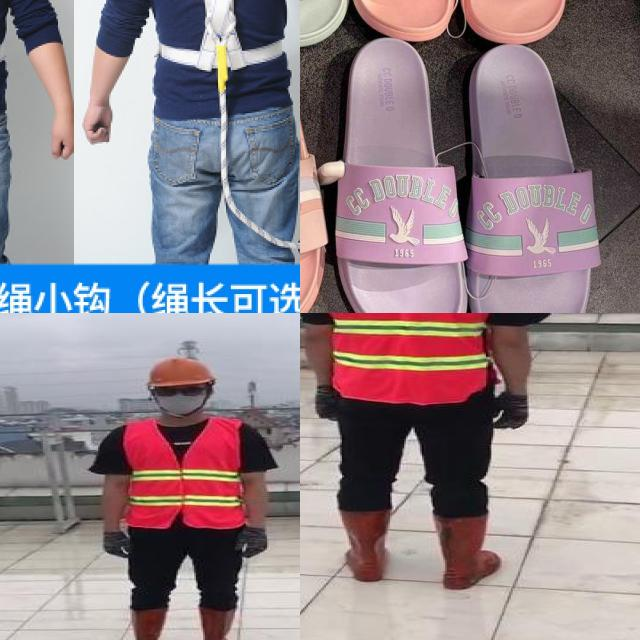Harness: (141, 0, 298, 158)
Sandals: (325, 30, 612, 313), (351, 0, 599, 75)
boots: (429, 513, 507, 593), (336, 510, 392, 583), (117, 607, 172, 640), (194, 605, 245, 640)
face_mask: (148, 383, 206, 415)
glasses: (150, 382, 210, 400)
hand_glove: (488, 392, 532, 429), (312, 384, 342, 429), (100, 529, 137, 559), (235, 529, 271, 558)
head_helmet: (143, 354, 217, 388)
person: (300, 313, 540, 592), (86, 352, 283, 640)
vest: (315, 313, 493, 404), (120, 418, 246, 529)
